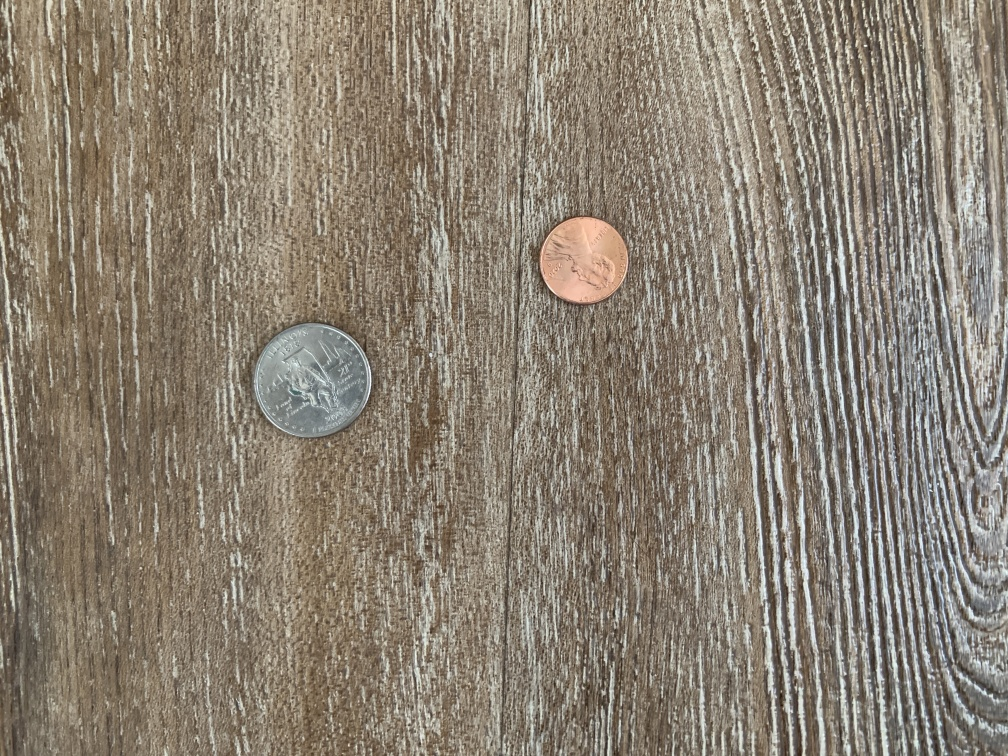penny: (533, 211, 636, 310)
quarter: (248, 315, 377, 452)
